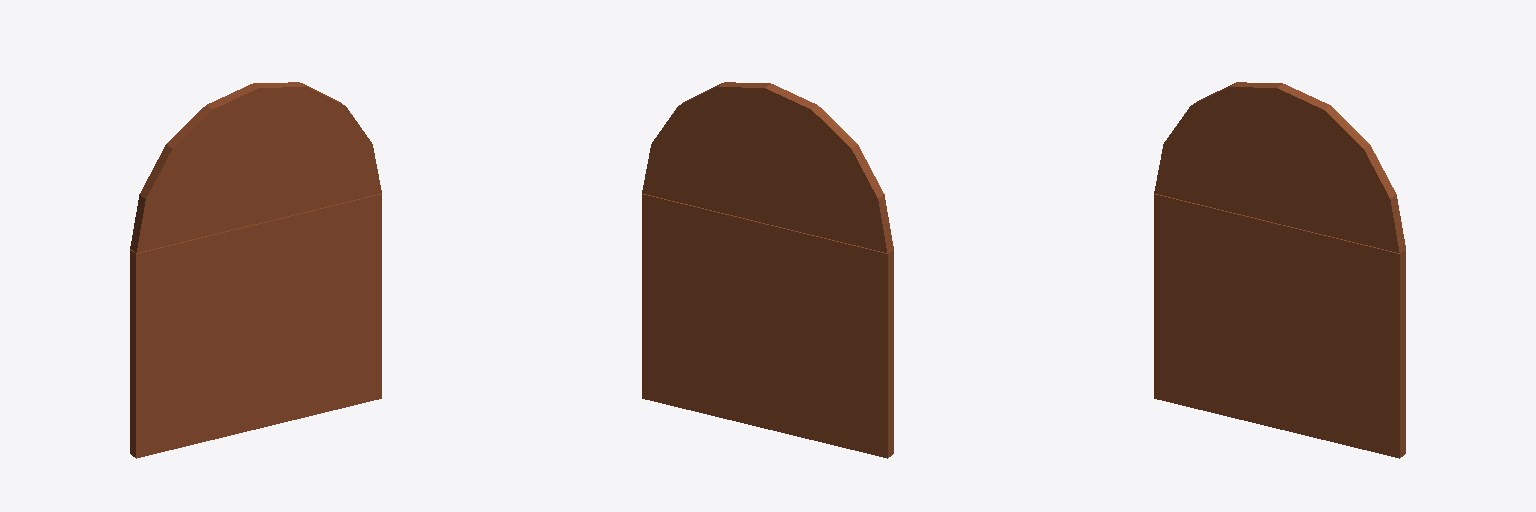
The model's file is DoorRegular.obj.
The picture shows the model from 3 angles: view 1: azimuth 30°, elevation 25°; view 2: azimuth 150°, elevation 25°; view 3: azimuth 330°, elevation 25°; orthographic projection.
Parts seen in each view (by area): view 1: DoorRegular; view 2: DoorRegular; view 3: DoorRegular.
Part boxes in pixels (x1,y1,x2,y2): DoorRegular: (130, 82, 381, 458); DoorRegular: (642, 82, 893, 458); DoorRegular: (1154, 82, 1405, 458).
Bounding box in the file's own units: 2.05 × 2.71 × 0.0925.